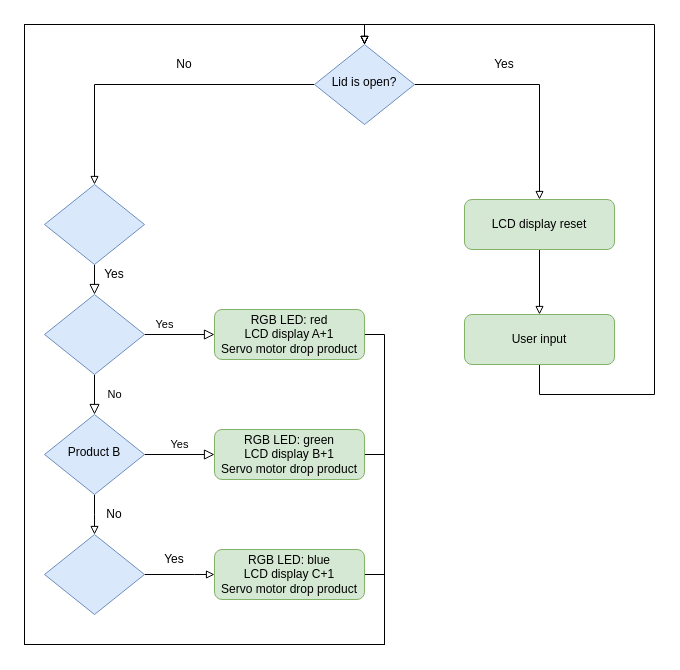
Image size: 680x670. Some labels were removed from this diagram. Each missing label, with the centre of its shape:
"Product A?" goes at [94,334].
"Product C" goes at [94,574].
"Product is placed?" goes at [94,224].
